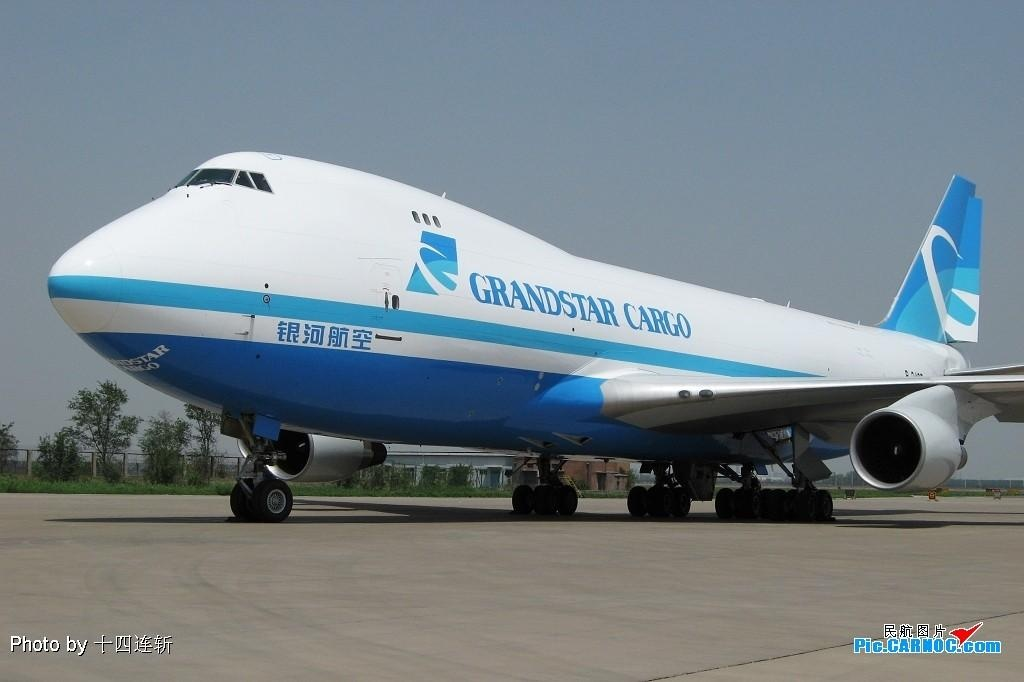airplane: (36, 148, 1024, 524)
